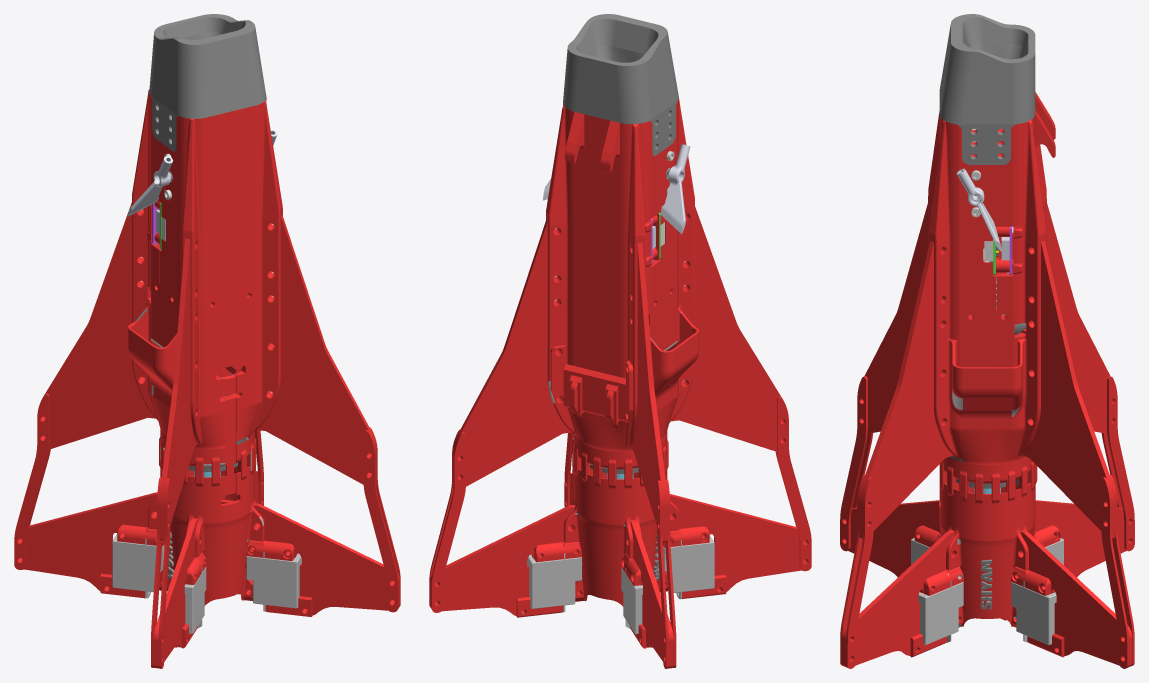
File: xwing2.glb
3 renders of one model, left to right at view 1: azimuth 30°, elevation 25°; view 2: azimuth 150°, elevation 25°; view 3: azimuth 270°, elevation 25°, orthographic. The views are drawn at different scales.
Visible parts, largest first — view 1: X_wing_2_part; view 2: X_wing_2_part; view 3: X_wing_2_part.
Part boxes in pixels (box(x1,y1,x2,y2)): X_wing_2_part: box(14, 14, 400, 668); X_wing_2_part: box(429, 14, 811, 668); X_wing_2_part: box(840, 14, 1134, 668).
Bounding box in the file's own units: 0.1089 × 0.2406 × 0.1089.
